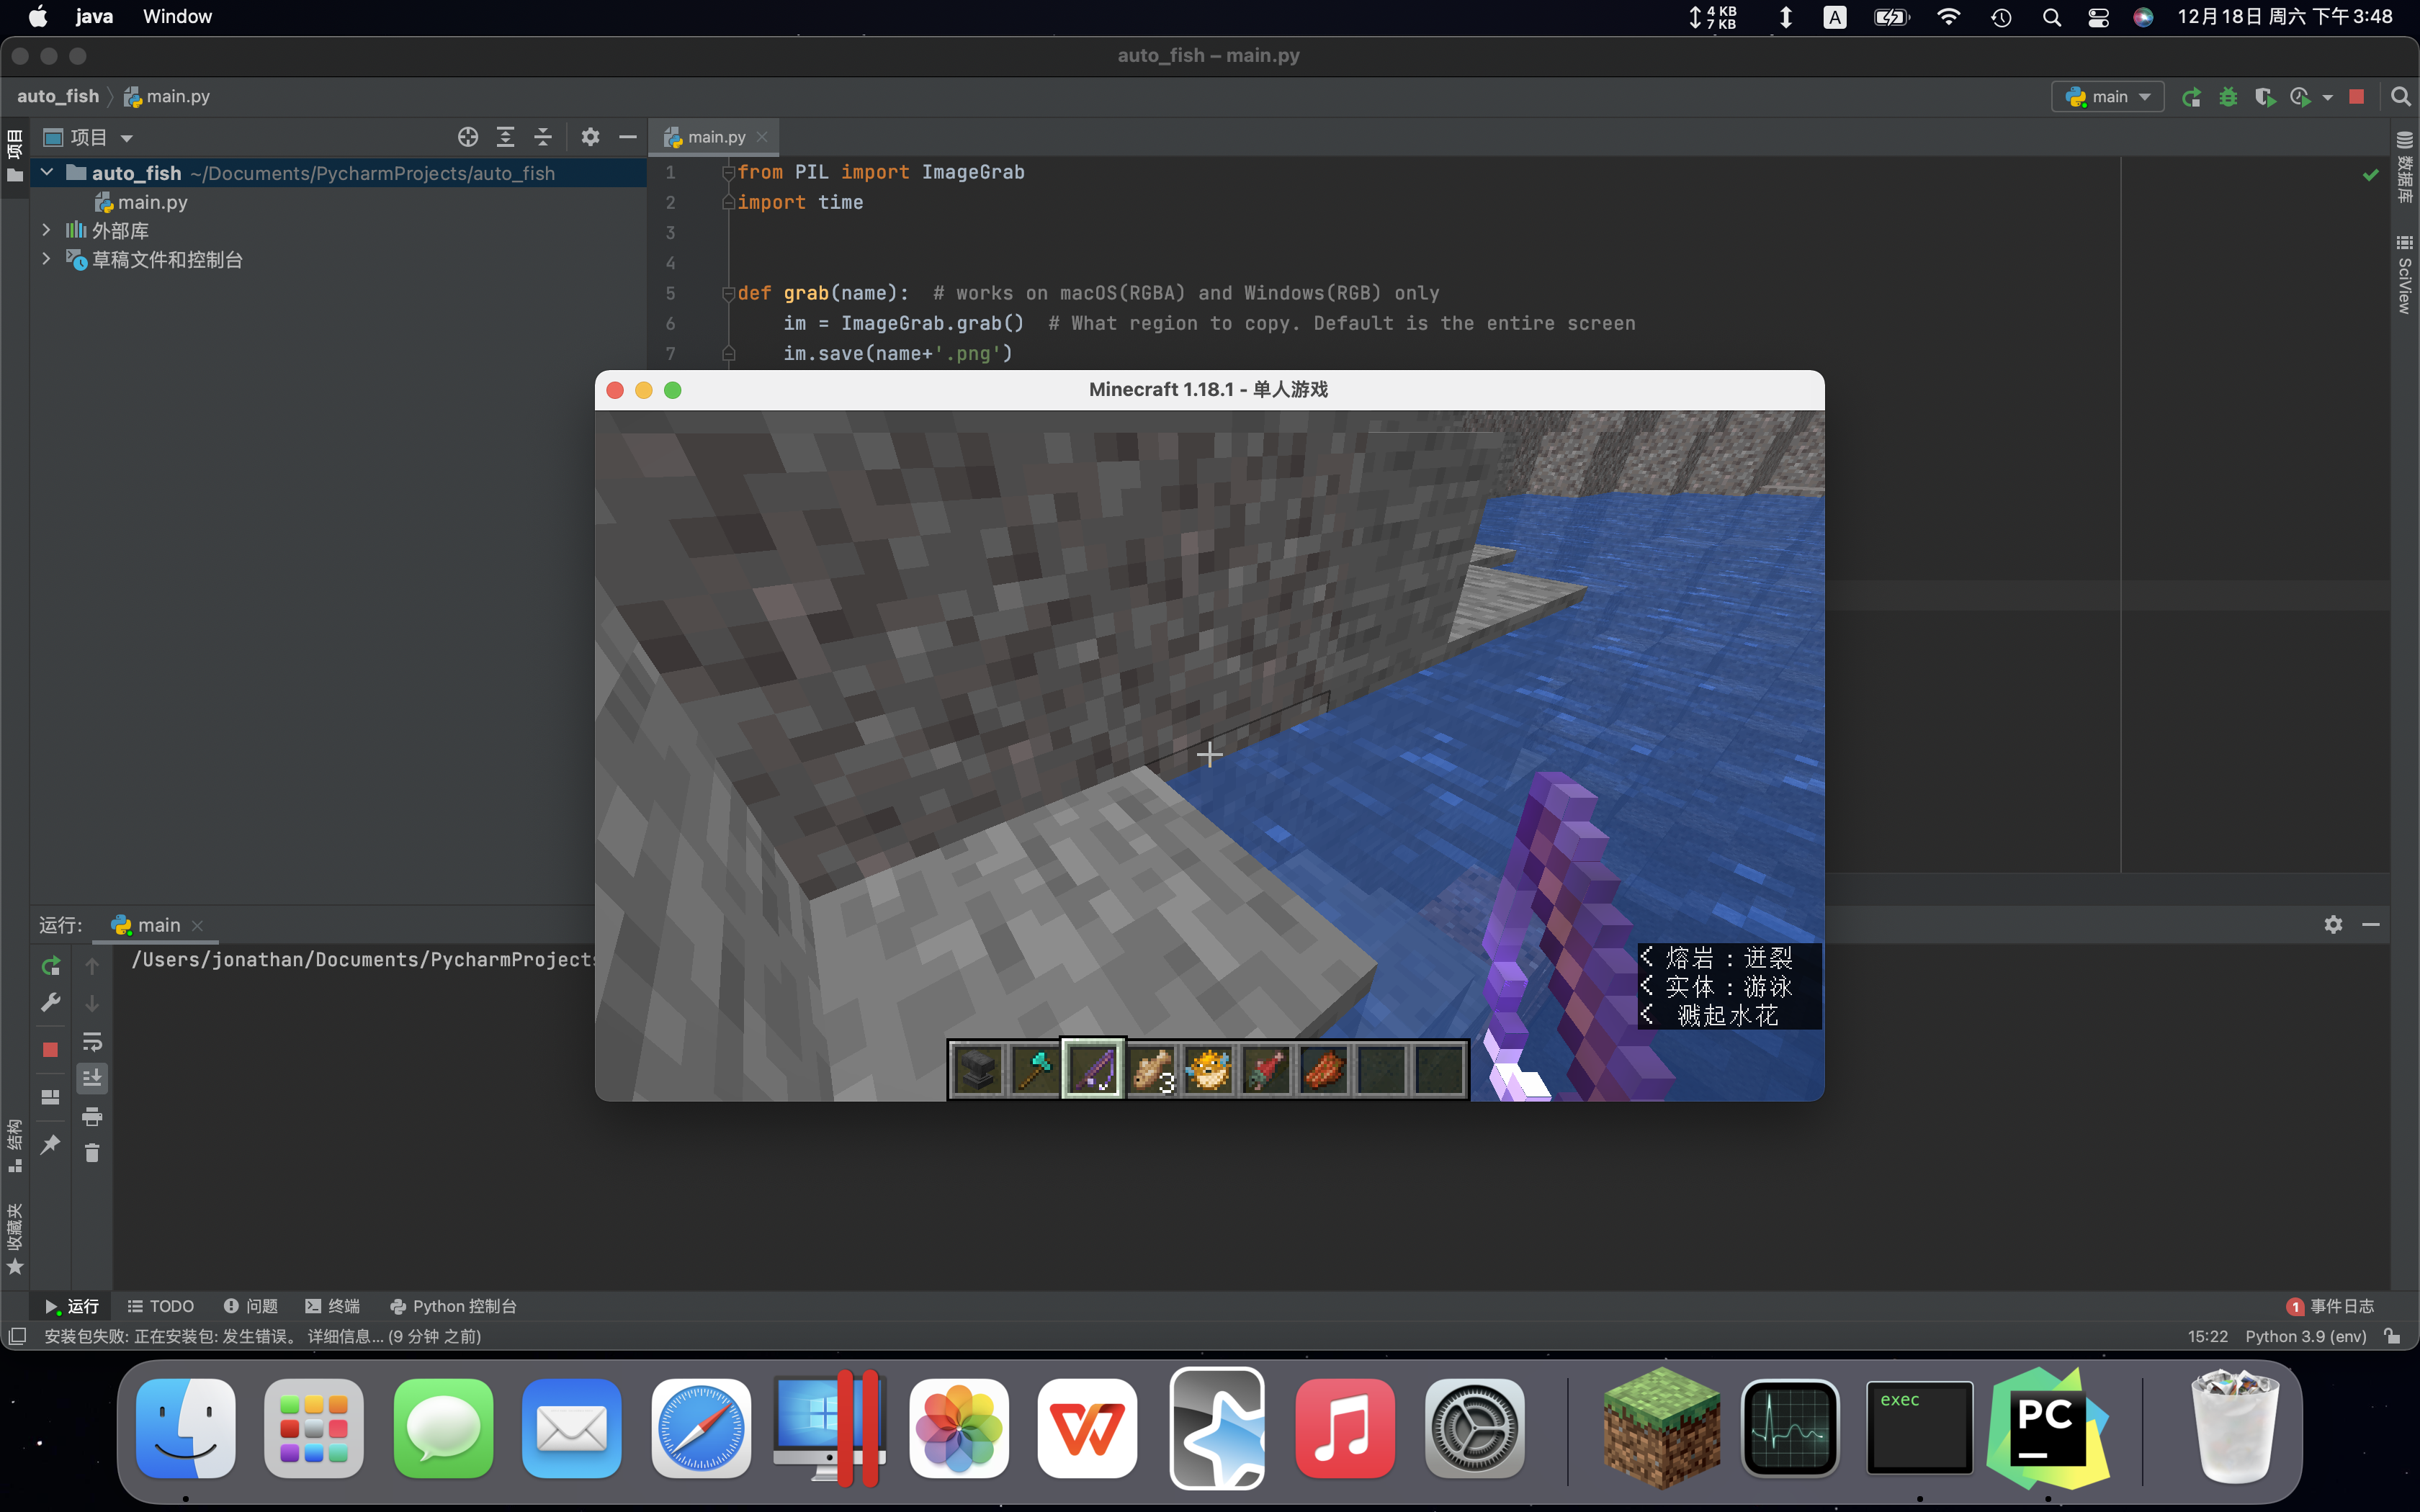inf: (1638, 944, 1824, 1028)
